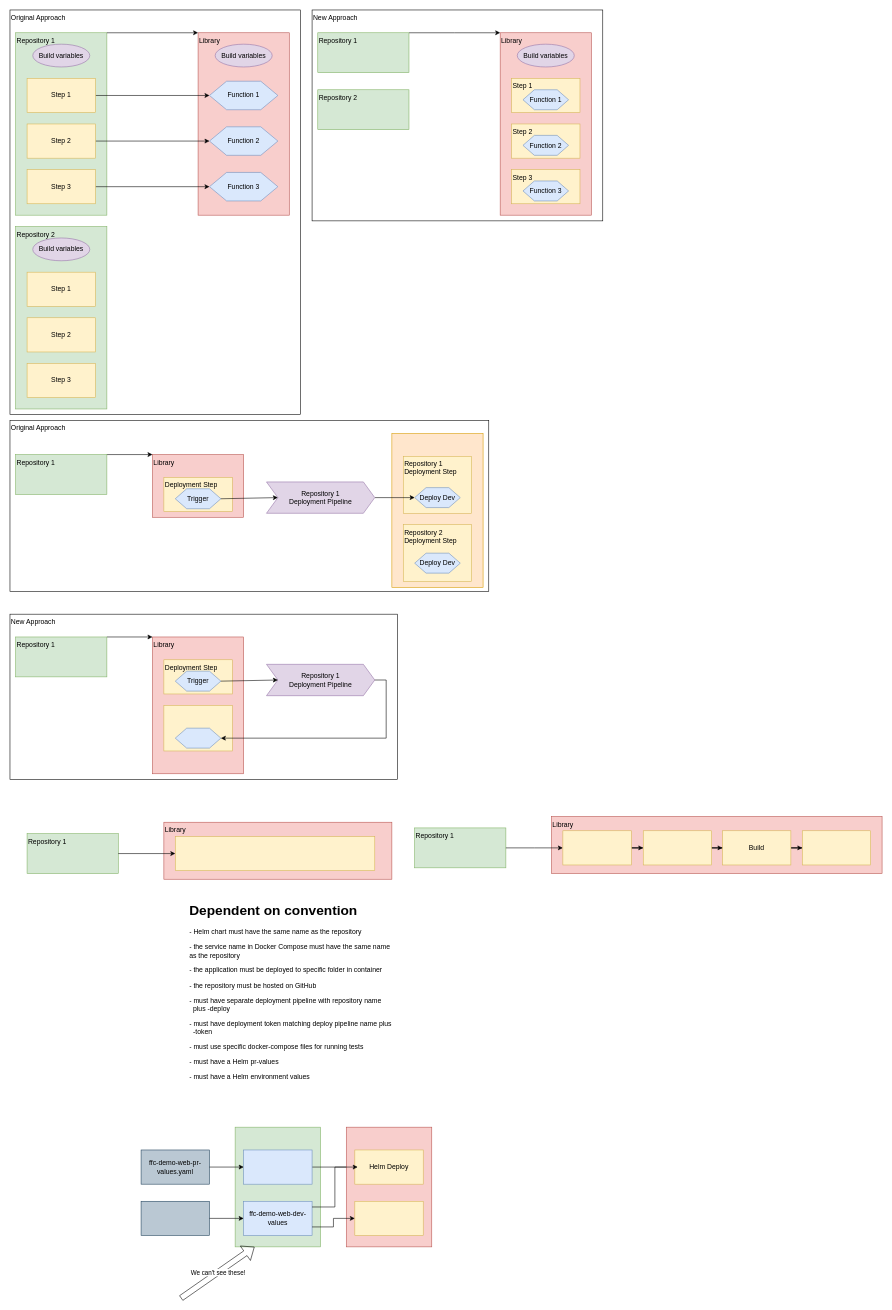
The diagram is 892 pixels wide and 1310 high, and some of its shapes have lost their labels. Here are the shapes that lost their labels. From the top down, the box of each, then its label:
(391, 433, 483, 587): GitLab
(163, 705, 232, 751): Deploy to Environment
(175, 728, 221, 748): Deploy x
(175, 836, 375, 871): Validate -> Test -> Build -> Deploy
(562, 830, 631, 865): Validate
(643, 830, 712, 865): Test
(802, 830, 871, 865): Deploy
(243, 1149, 312, 1184): ffc-demo-web-pr-values
(235, 1127, 321, 1247): Jenkins Credentials
(346, 1127, 432, 1247): Jenkins Pipeline
(141, 1201, 209, 1235): ffc-demo-web-dev-values.yaml
(354, 1201, 423, 1235): Helm Remote Deploy
